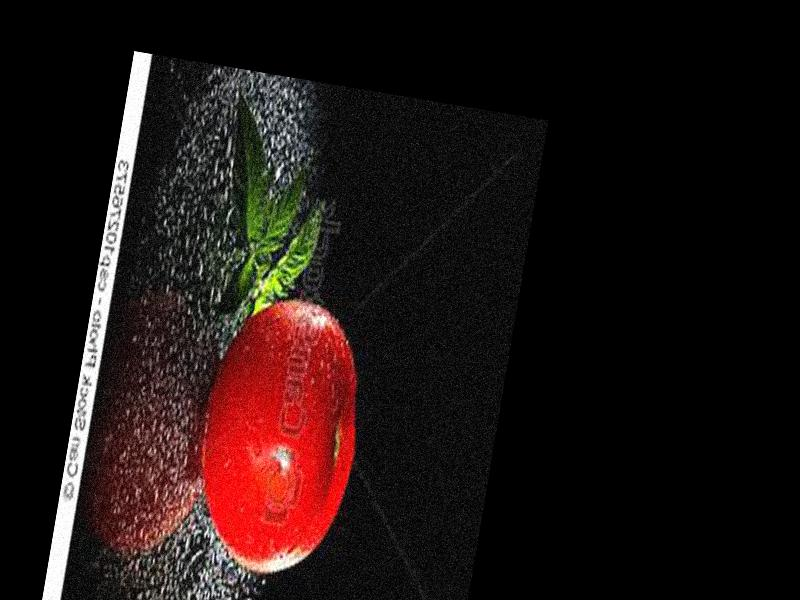Tomato: (183, 289, 377, 583)
